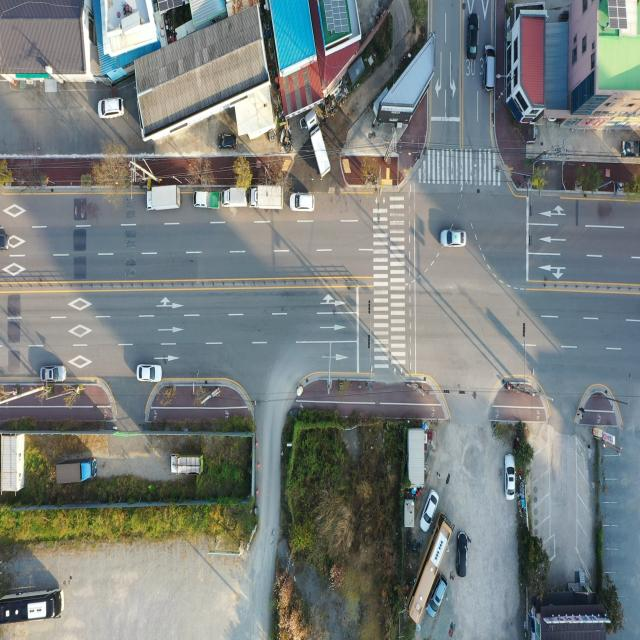car: (426, 572, 446, 621), (420, 490, 440, 530), (466, 13, 480, 61), (98, 96, 125, 119), (483, 44, 496, 89), (456, 530, 468, 578), (291, 190, 316, 210), (136, 363, 161, 382), (505, 455, 515, 501), (442, 230, 466, 249), (42, 364, 67, 382), (217, 134, 236, 150), (0, 235, 9, 250)
large_bus: (405, 511, 454, 622), (0, 587, 64, 622)
medium_truck: (302, 110, 332, 176), (54, 457, 98, 483), (146, 185, 184, 213), (248, 187, 284, 210)
small_truck: (170, 450, 205, 478), (220, 183, 248, 213), (191, 187, 221, 210)
